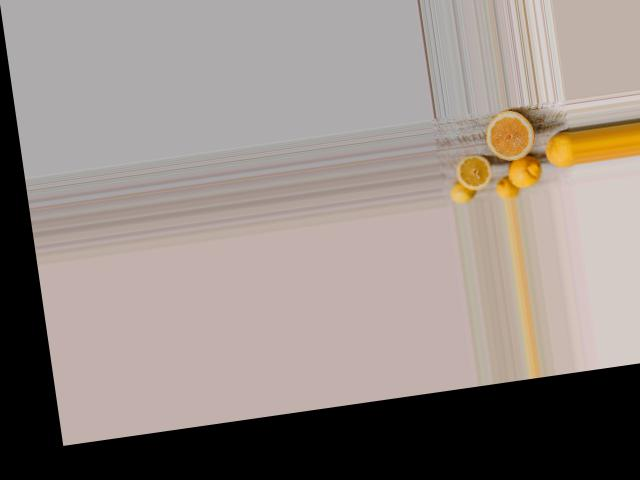lemon: (539, 127, 575, 171)
